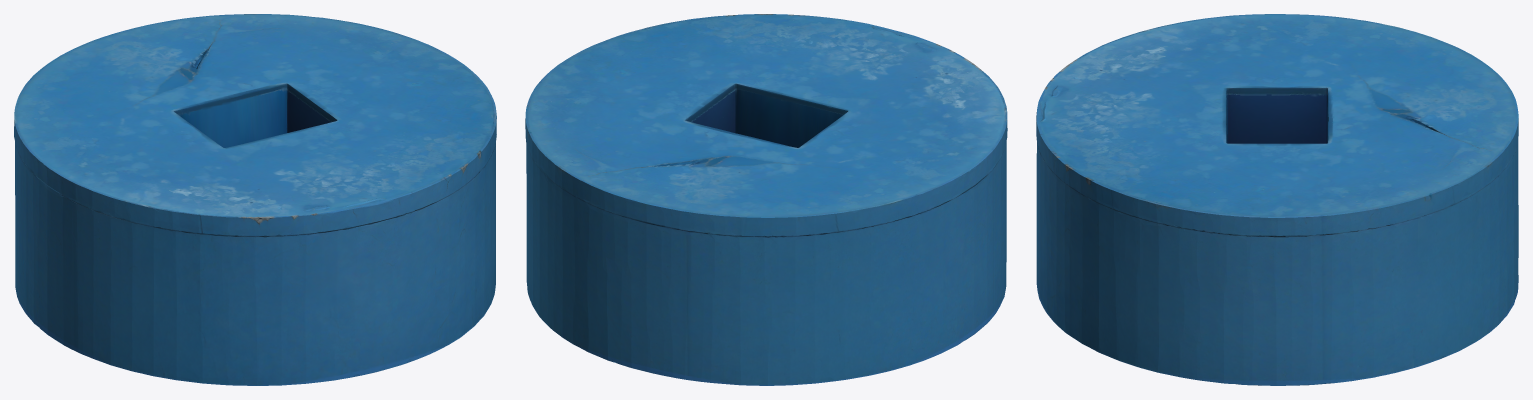
File: Blue_Geometric_Box_0417150445_texture.obj
3 renders of one model, left to right at view 1: azimuth 30°, elevation 25°; view 2: azimuth 150°, elevation 25°; view 3: azimuth 270°, elevation 25°, orthographic.
Parts seen in each view (by area): view 1: Blue_Geometric_Box_0417150445_texture; view 2: Blue_Geometric_Box_0417150445_texture; view 3: Blue_Geometric_Box_0417150445_texture.
Boxes of the visible parts, x1,y1,x2,y2 form: Blue_Geometric_Box_0417150445_texture: [14, 14, 496, 385]; Blue_Geometric_Box_0417150445_texture: [525, 14, 1007, 385]; Blue_Geometric_Box_0417150445_texture: [1036, 14, 1518, 385].
Size of the model in its own units: 2 by 0.7779 by 2.
1 material, 1 textured.
